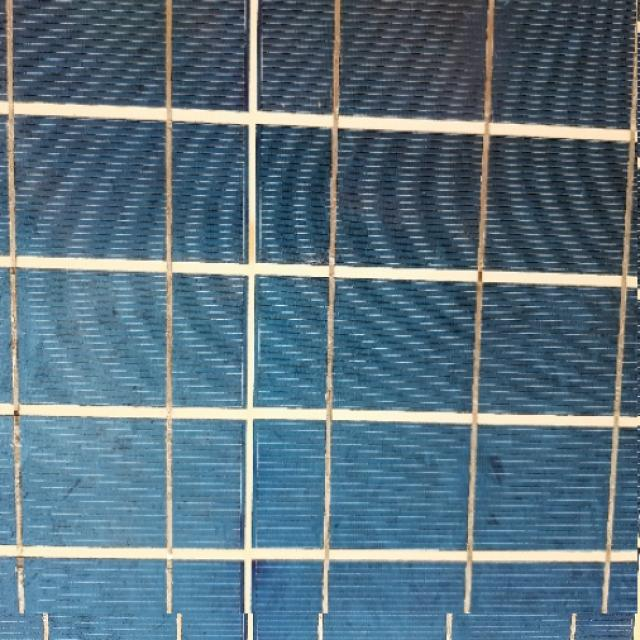Clean: (0, 0, 638, 614)
